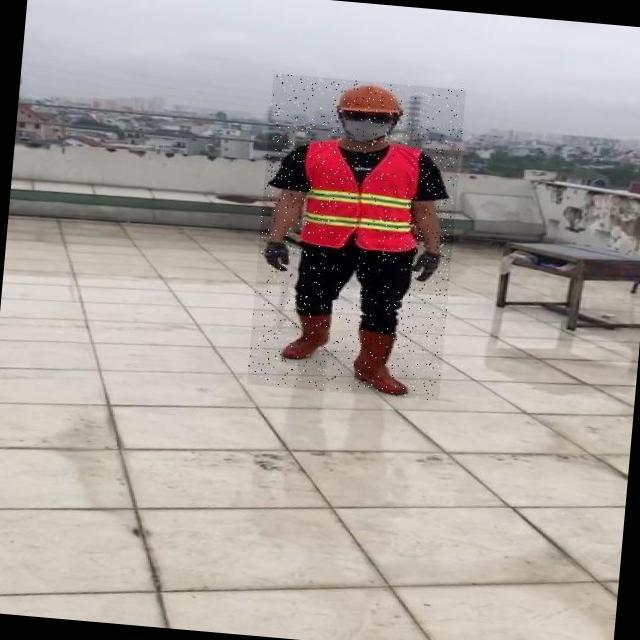Gloves: (413, 249, 441, 285), (264, 240, 293, 271)
Helmet: (333, 81, 406, 120)
Human: (247, 74, 466, 401)
Safety Boot: (350, 326, 412, 396), (279, 311, 333, 362)
Safety Vest: (296, 136, 423, 253)
